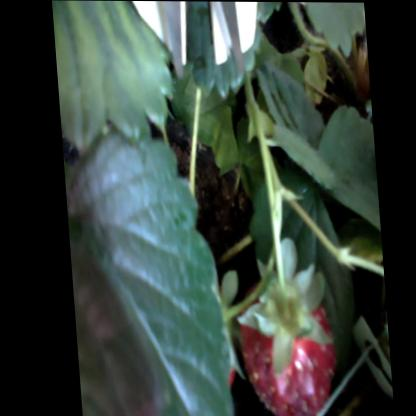ripe: (228, 240, 340, 416)
